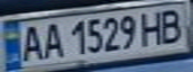1: (66, 17, 87, 55)
2: (103, 14, 124, 52)
5: (84, 16, 106, 55)
9: (118, 11, 142, 50)
A: (39, 20, 66, 60), (18, 23, 45, 62)
B: (157, 7, 190, 45)
H: (136, 8, 169, 47)
